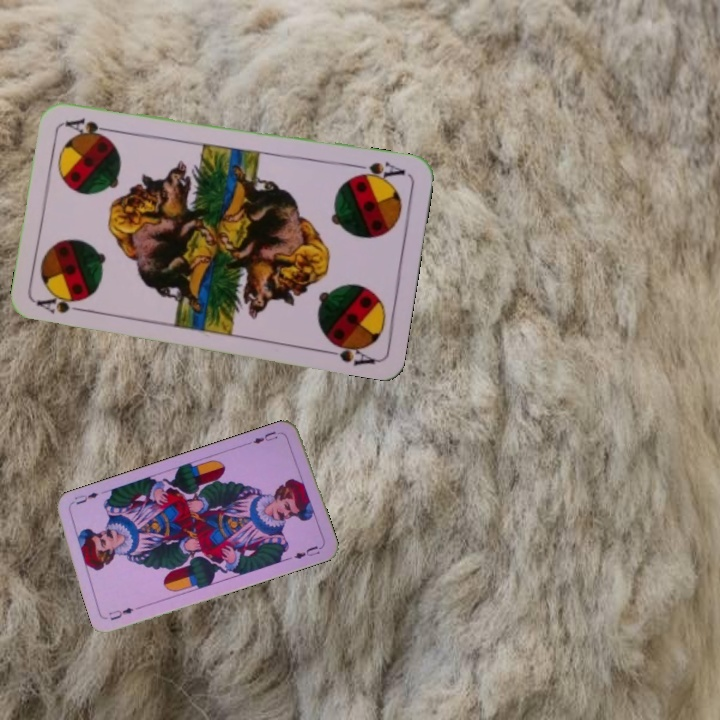EU: (245, 427, 285, 447), (105, 604, 136, 623)
SA: (349, 158, 408, 185), (33, 291, 93, 317)
